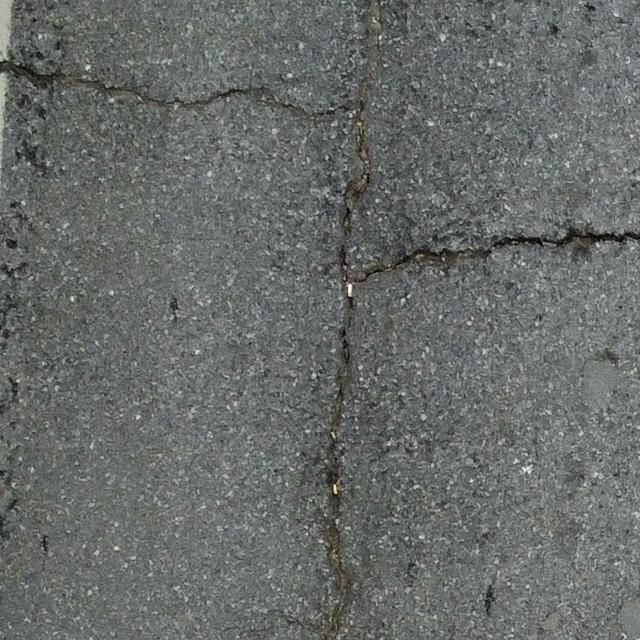LongitudinalCrack: (319, 1, 385, 635)
TransverseCrack: (3, 62, 351, 121), (355, 228, 640, 285)
